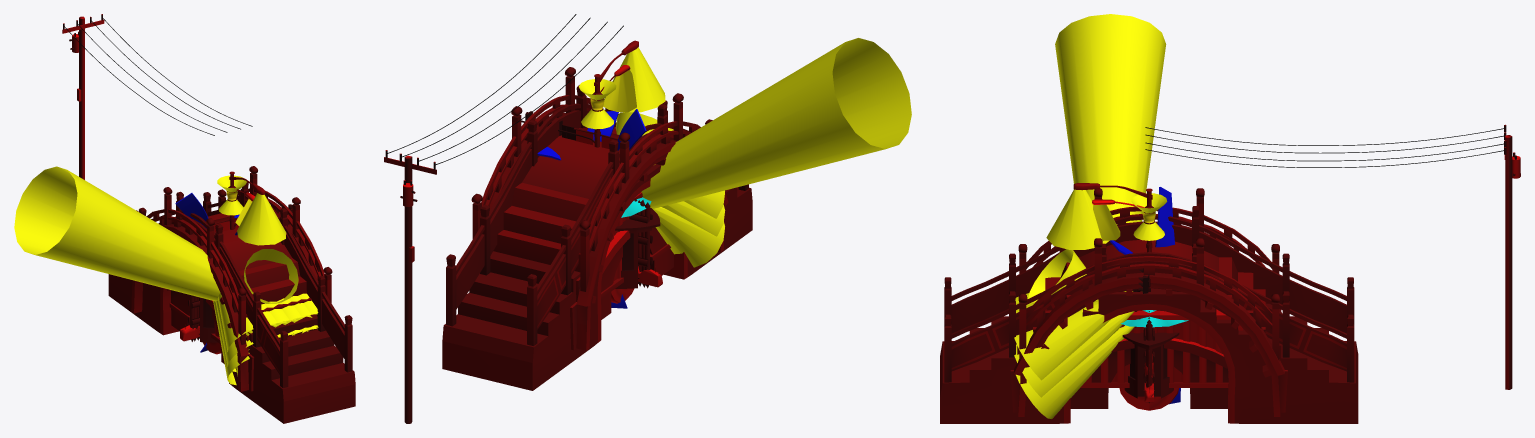
The model's file is EverythingLibrary_Furnishings_001.fbx.
3 renders of one model, left to right at view 1: azimuth 30°, elevation 25°; view 2: azimuth 150°, elevation 25°; view 3: azimuth 270°, elevation 25°, orthographic. The views are drawn at different scales.
Visible parts, largest first — view 1: base (×3), light (×5), TelephonePole, PublicToilet, SteelRibbons, Palisade; view 2: base (×3), light (×5), TelephonePole, PublicToilet, SteelRibbons, Palisade, ShippingContainer; view 3: base (×3), light (×6), TelephonePole, ShippingContainer, PublicToilet, SteelRibbons, RoundHayBale, Palisade.
Part boxes in pixels (box(x1,y1,x2,y2)): base (×3): box(108, 166, 355, 423); light (×5): box(14, 166, 318, 385); TelephonePole: box(62, 14, 252, 179); PublicToilet: box(188, 294, 217, 342); SteelRibbons: box(175, 193, 239, 352); Palisade: box(188, 296, 199, 341); base (×3): box(442, 67, 752, 390); light (×5): box(578, 38, 911, 267); TelephonePole: box(384, 14, 623, 423); PublicToilet: box(615, 208, 660, 288); SteelRibbons: box(537, 109, 646, 308); Palisade: box(629, 198, 652, 288); ShippingContainer: box(601, 192, 670, 298); base (×3): box(940, 188, 1358, 423); light (×6): box(1014, 14, 1167, 418); TelephonePole: box(1145, 124, 1520, 389); ShippingContainer: box(1080, 309, 1242, 387); PublicToilet: box(1122, 332, 1179, 398); SteelRibbons: box(1110, 187, 1180, 404); RoundHayBale: box(1119, 388, 1178, 410); Palisade: box(1143, 311, 1154, 403).
Size of the model in its own units: 2186 by 1738 by 3227.
